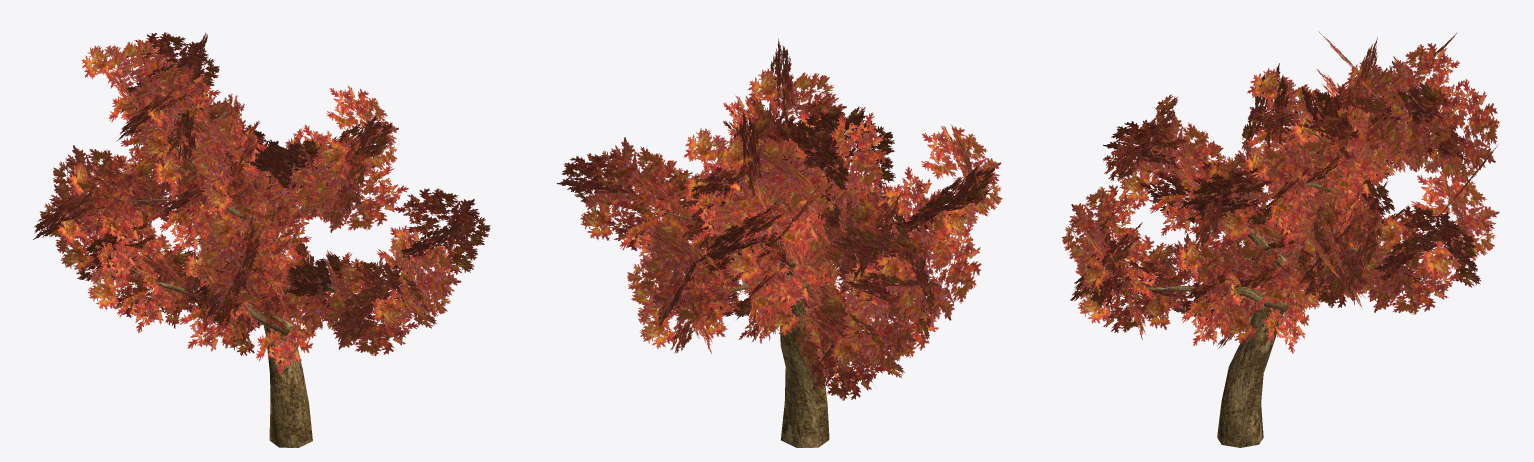
File: Tree2.fbx
3 renders of one model, left to right at view 1: azimuth 30°, elevation 25°; view 2: azimuth 150°, elevation 25°; view 3: azimuth 270°, elevation 25°, orthographic. The views are drawn at different scales.
Visible parts, largest first — view 1: Cylinder15; view 2: Cylinder15; view 3: Cylinder15.
Part boxes in pixels (left/top/right/bottom): Cylinder15: left=33, top=32, right=490, bottom=447; Cylinder15: left=556, top=38, right=1002, bottom=447; Cylinder15: left=1061, top=31, right=1499, bottom=447.
Bounding box in the file's own units: 1119 × 1003 × 1108.
